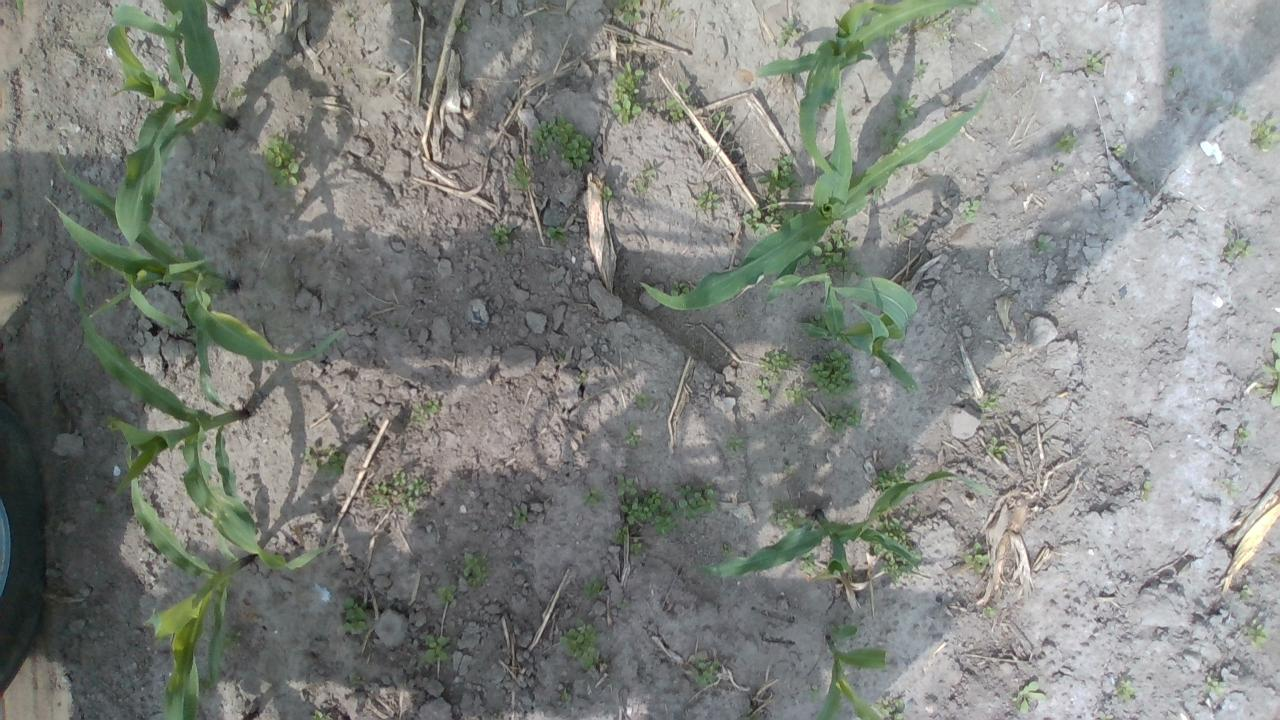Maize: (68, 260, 340, 574), (639, 80, 992, 312), (43, 146, 348, 370), (756, 0, 1001, 183), (120, 431, 255, 720), (105, 0, 241, 253), (696, 470, 999, 583), (12, 0, 231, 134), (764, 266, 922, 394), (812, 620, 885, 720), (229, 692, 271, 720)
Weeds: (798, 220, 868, 284), (647, 479, 719, 534), (532, 114, 596, 172), (873, 516, 922, 584), (260, 127, 304, 193), (806, 348, 858, 402), (370, 472, 428, 518), (558, 618, 600, 671), (610, 59, 644, 124), (757, 154, 804, 199), (1255, 331, 1280, 406), (824, 400, 864, 438), (769, 498, 811, 534), (305, 444, 348, 478), (758, 347, 798, 382), (339, 596, 374, 635), (914, 10, 954, 42), (764, 194, 802, 226), (1221, 226, 1253, 263), (1011, 680, 1046, 713), (1248, 118, 1280, 153), (418, 634, 452, 666), (874, 460, 910, 490), (460, 552, 490, 586), (689, 656, 720, 688), (876, 122, 904, 156), (961, 543, 990, 574), (486, 222, 514, 254), (507, 156, 532, 190), (743, 203, 767, 237), (612, 0, 644, 25), (872, 697, 906, 720), (620, 496, 646, 526), (244, 0, 276, 24), (776, 18, 801, 48), (892, 93, 917, 122), (694, 186, 721, 211), (1246, 618, 1268, 648), (782, 386, 813, 407), (411, 400, 438, 424), (634, 166, 656, 195), (83, 254, 109, 278), (977, 387, 1000, 412), (1054, 128, 1076, 154), (580, 486, 606, 507), (1115, 676, 1136, 702), (986, 436, 1009, 459), (100, 413, 124, 435), (222, 628, 242, 654), (582, 576, 604, 599), (890, 214, 914, 235), (544, 226, 570, 245), (616, 474, 638, 496), (622, 424, 642, 448), (452, 12, 472, 36), (960, 198, 980, 222), (512, 502, 530, 528), (1204, 676, 1226, 697), (738, 703, 764, 720), (665, 98, 685, 120), (1084, 52, 1104, 74), (798, 550, 816, 574), (610, 526, 630, 546), (436, 584, 457, 603), (722, 434, 744, 452), (1222, 477, 1240, 499), (628, 536, 648, 555), (1164, 65, 1182, 86), (808, 312, 828, 330), (754, 378, 770, 399), (669, 280, 690, 296), (677, 81, 692, 102), (230, 85, 248, 102), (1034, 234, 1052, 251), (711, 110, 730, 126), (808, 683, 824, 701), (1230, 104, 1248, 120), (884, 29, 904, 43), (342, 8, 358, 25), (913, 60, 928, 78), (1234, 426, 1252, 441), (635, 392, 651, 408), (310, 708, 330, 720), (1141, 480, 1153, 500), (1112, 142, 1128, 157), (872, 184, 886, 199), (600, 185, 612, 200), (981, 604, 996, 616), (1240, 584, 1252, 599), (720, 542, 732, 556), (560, 688, 572, 702), (1051, 58, 1062, 73), (664, 10, 680, 20), (702, 144, 713, 158), (360, 414, 372, 426), (618, 596, 630, 608), (644, 99, 659, 108), (1051, 164, 1064, 174), (783, 464, 796, 474), (577, 372, 588, 382), (1100, 713, 1114, 720), (389, 320, 398, 329), (734, 310, 744, 318), (624, 36, 636, 42), (893, 166, 900, 175)
